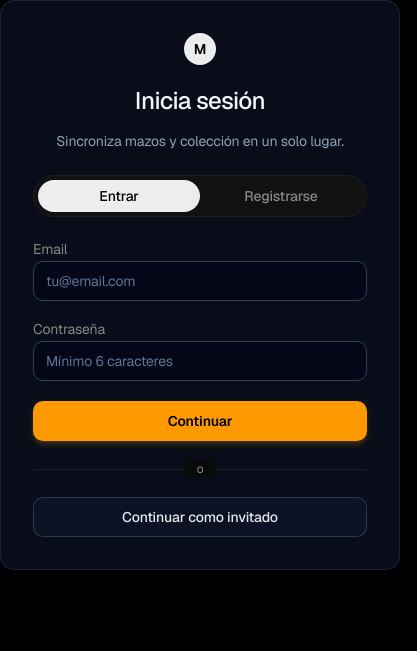
Scenario: AuthForm Guest Login (Swift Parity) › should display error message if signInAsGuest fails
Click the button "Continuar como invitado": (200,517) [33, 497, 367, 537]
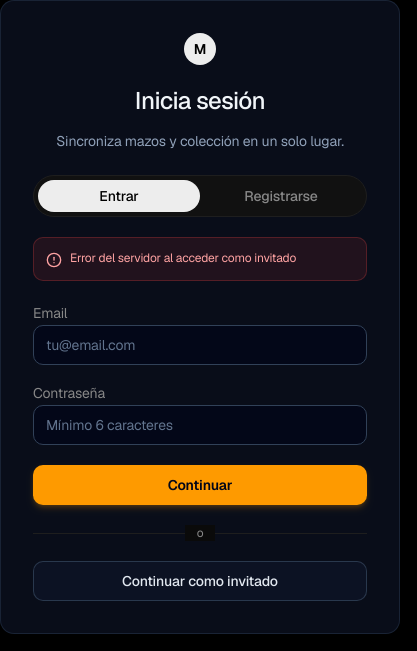
Now the text "Error del servidor al acceder como invitado" is shown, box [70, 250, 296, 266]
